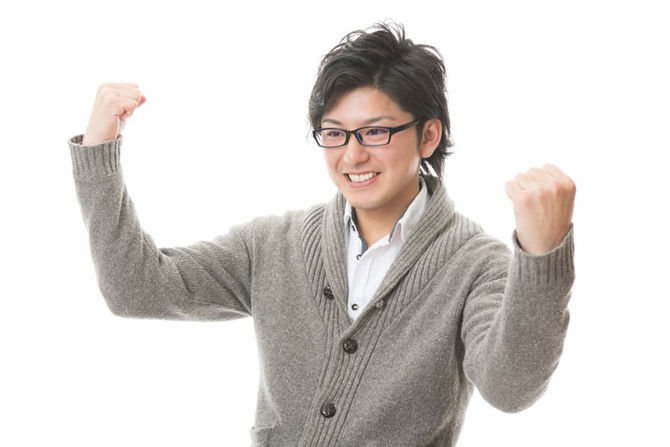face: (308, 85, 442, 211)
hand: (504, 161, 577, 254), (83, 80, 148, 143)
